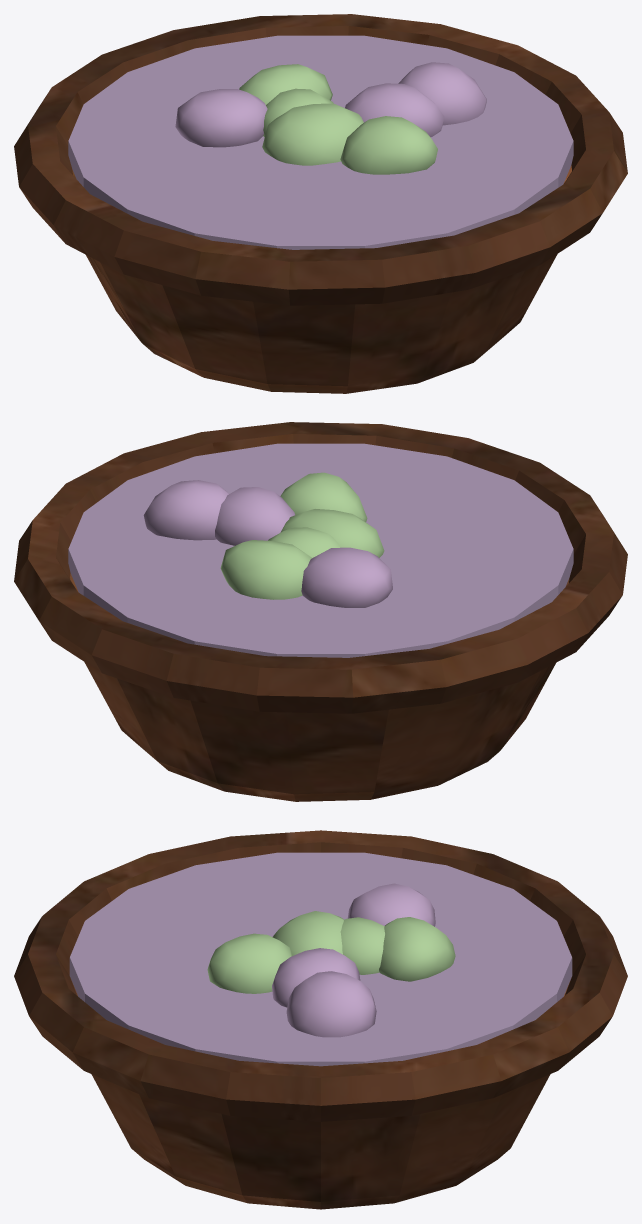
Rendered from dish_spore_ward_stew.glb.
3 views of the same model, one above another, from view 1: azimuth 30°, elevation 25°; view 2: azimuth 150°, elevation 25°; view 3: azimuth 270°, elevation 25° (orthographic).
Parts seen in each view (by area): view 1: model; view 2: model; view 3: model.
Boxes of the visible parts, x1,y1,x2,y2 form: model: (14,14,627,393); model: (14,422,627,801); model: (14,830,627,1209).
Size of the model in its own units: 0.264 by 0.1024 by 0.264.
5 materials, 2 textured.
